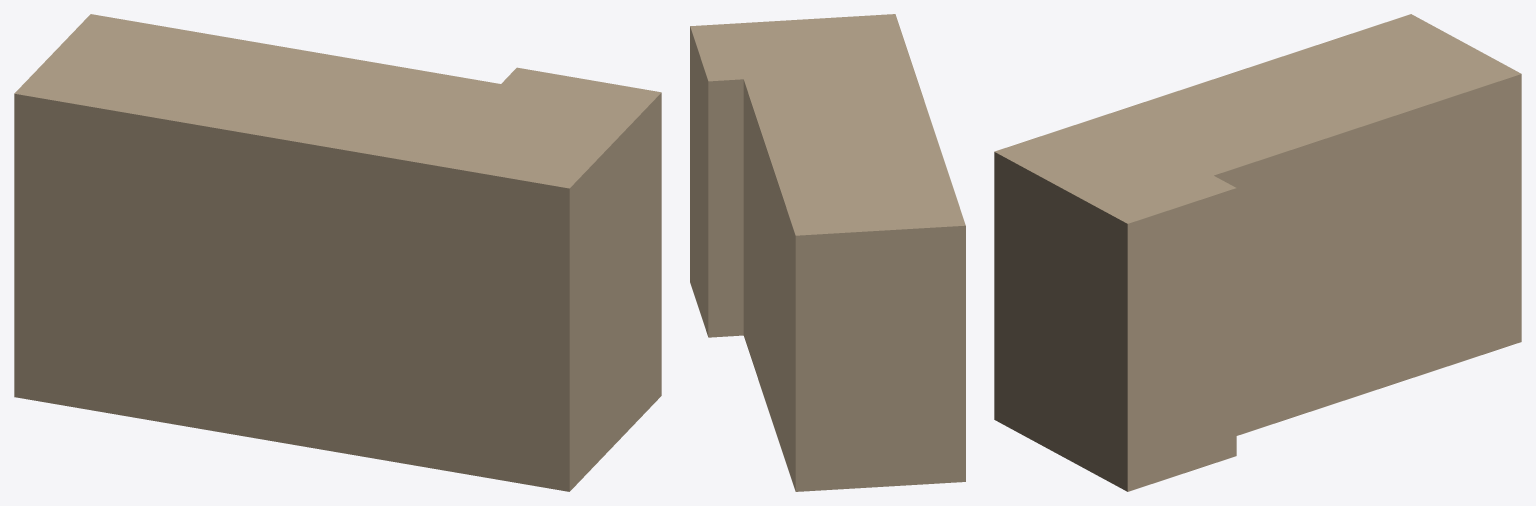
Rendered from bld_101979605.dae.
3 renders of one model, left to right at view 1: azimuth 30°, elevation 25°; view 2: azimuth 150°, elevation 25°; view 3: azimuth 270°, elevation 25°, orthographic. The views are drawn at different scales.
Parts seen in each view (by area): view 1: bld_101979605; view 2: bld_101979605; view 3: bld_101979605.
Boxes of the visible parts, x1=… form: bld_101979605: x1=14, y1=14, x2=661, y2=491; bld_101979605: x1=690, y1=14, x2=965, y2=491; bld_101979605: x1=994, y1=14, x2=1521, y2=491.
Bounding box in the file's own units: 13.44 × 14.27 × 8.
